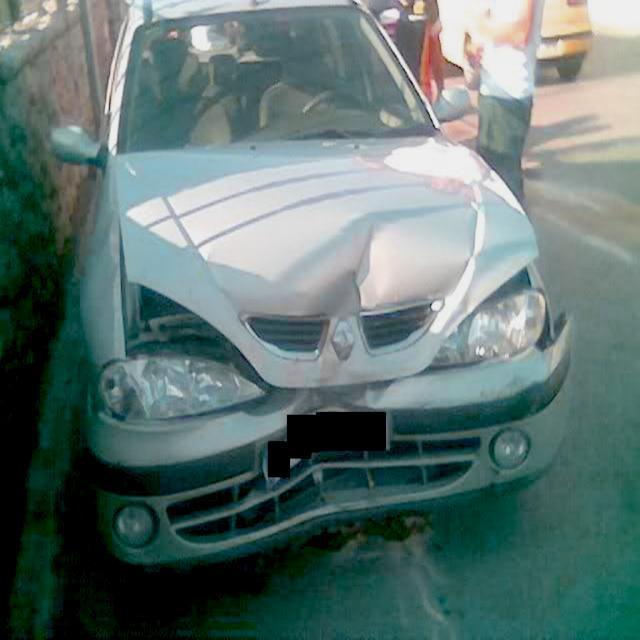minor: (228, 191, 479, 414)
